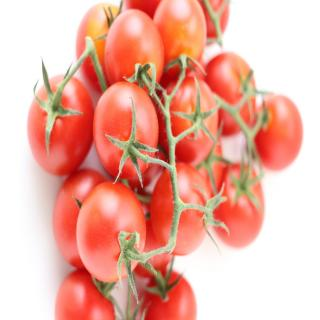Tomato: (25, 0, 266, 320), (250, 94, 304, 170)
